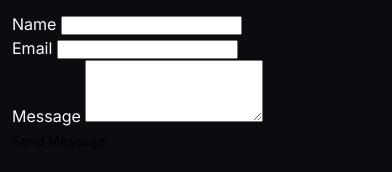
it: ContactForm › Validation - Name › fails for empty name
The image size is (392, 172).
Clear the field with id "contact-name" at (151, 26), box [61,16,242,35]
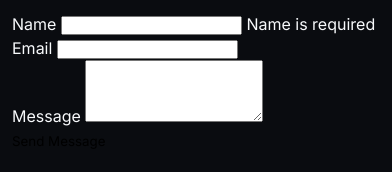
Check: the message with id "name-error" reads "Name is required", box [246,14,375,34]
